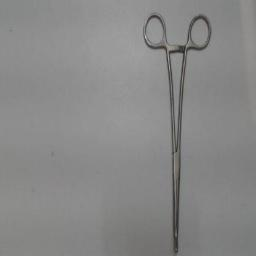Lahey Forceps: (140, 6, 214, 254)
